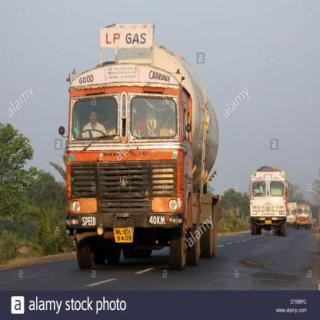Normal_vehicle: (55, 20, 226, 276)
